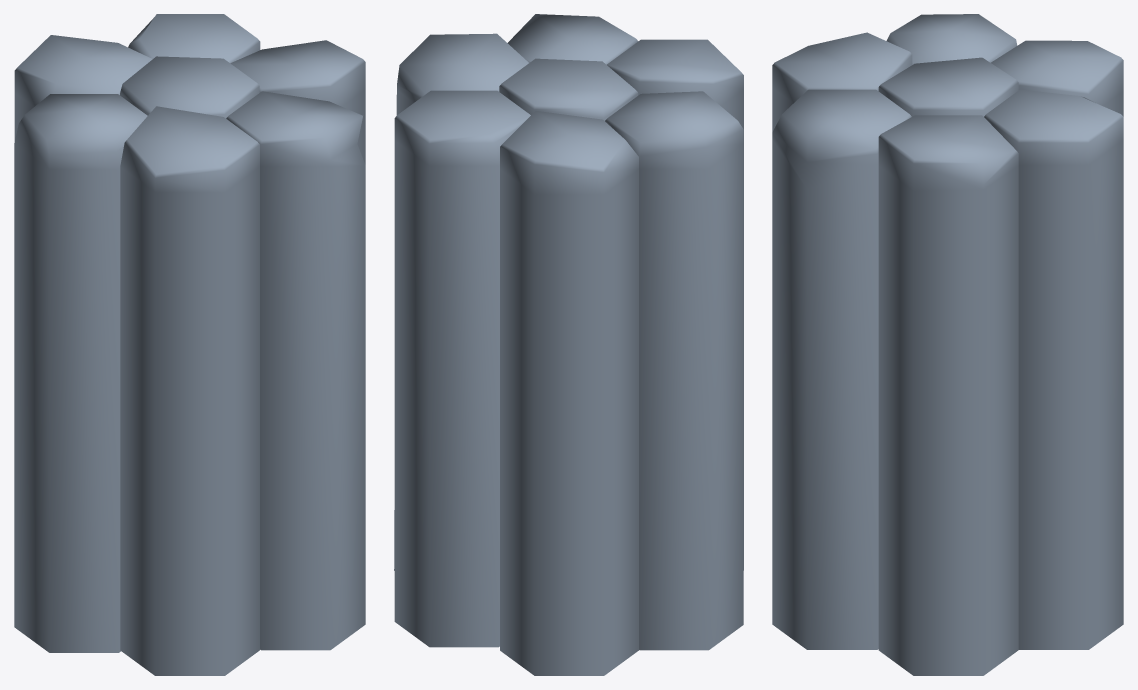
Rendered from HexVariation1.fbx.
3 views of the same model, side by side, from view 1: azimuth 30°, elevation 25°; view 2: azimuth 150°, elevation 25°; view 3: azimuth 270°, elevation 25° (orthographic).
Parts seen in each view (by area): view 1: Cylinder.005, Cylinder.006, Cylinder.004, Cylinder.007, Cylinder.003, Cylinder.000, Cylinder.001; view 2: Cylinder.007, Cylinder.001, Cylinder.006, Cylinder.005, Cylinder.003, Cylinder.000, Cylinder.004; view 3: Cylinder.003, Cylinder.004, Cylinder.001, Cylinder.005, Cylinder.007, Cylinder.000, Cylinder.006.
Boxes of the visible parts, <box> form: Cylinder.005: <box>120,106,259,675</box>; Cylinder.006: <box>14,94,147,652</box>; Cylinder.004: <box>226,91,365,650</box>; Cylinder.007: <box>14,35,152,141</box>; Cylinder.003: <box>230,40,365,164</box>; Cylinder.000: <box>120,56,259,118</box>; Cylinder.001: <box>128,14,260,63</box>; Cylinder.007: <box>500,111,638,675</box>; Cylinder.001: <box>394,90,530,647</box>; Cylinder.006: <box>605,91,743,650</box>; Cylinder.005: <box>607,39,743,570</box>; Cylinder.003: <box>394,33,528,570</box>; Cylinder.000: <box>499,58,638,120</box>; Cylinder.004: <box>507,14,638,64</box>; Cylinder.003: <box>878,115,1018,675</box>; Cylinder.004: <box>772,89,911,649</box>; Cylinder.001: <box>984,89,1123,649</box>; Cylinder.005: <box>772,32,912,131</box>; Cylinder.007: <box>991,40,1123,116</box>; Cylinder.000: <box>878,57,1018,116</box>; Cylinder.006: <box>886,14,1017,64</box>.
Bounding box in the file's own units: 520 × 822 × 499.
